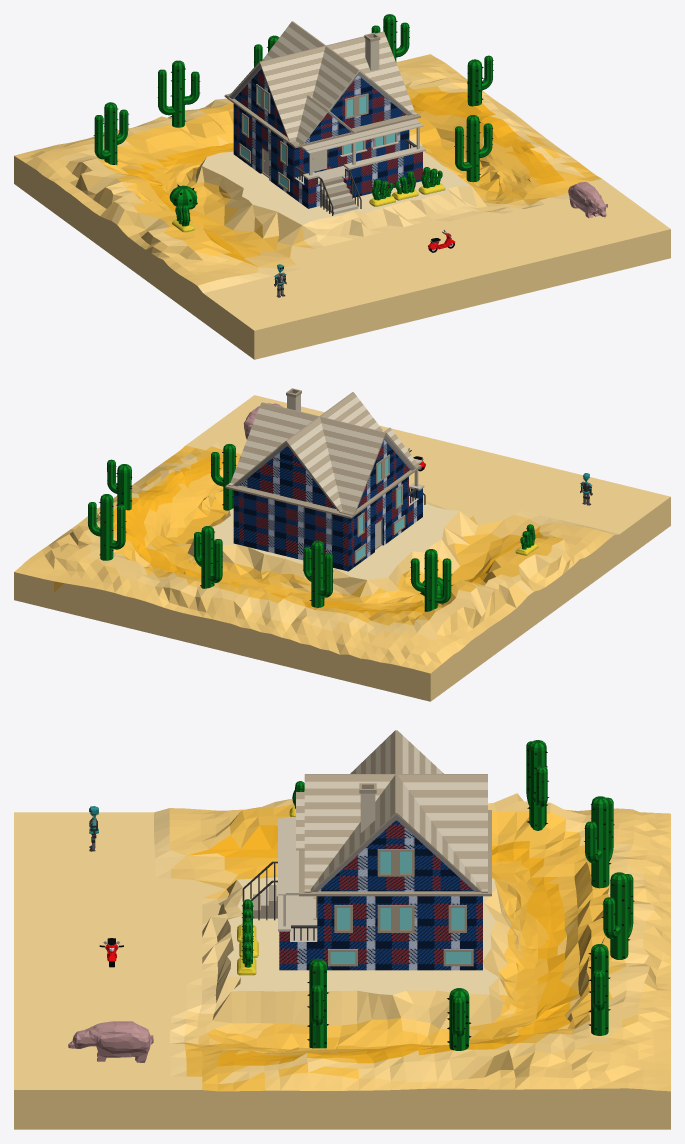
The picture shows the model from 3 angles, top to bottom: view 1: azimuth 30°, elevation 25°; view 2: azimuth 150°, elevation 25°; view 3: azimuth 270°, elevation 25°; orthographic projection. The views are drawn at different scales.
Parts seen in each view (by area): view 1: Cube.001, Cube.171, Cylinder.037, Cylinder.044, Cylinder.045, Cylinder.038, ANIMAL_HIPOPOTAMO, Cylinder.042, Cylinder.039, Cylinder.041, Sphere.023, Cylinder.040; view 2: Cube.001, Cube.171, Cylinder.042, Cylinder.045, Cylinder.044, Cylinder.043, Cylinder.037, Cylinder.038; view 3: Cube.001, Cube.171, ANIMAL_HIPOPOTAMO, Cylinder.043, Cylinder.044, Cylinder.045, Cylinder.042, Cylinder.037, Cylinder.038, Cylinder.041.
Boxes of the visible parts, x1,y1,x2,y2 form: Cube.001: (14,54,670,359); Cube.171: (224,21,425,215); Cylinder.037: (454,115,493,182); Cylinder.044: (157,60,200,127); Cylinder.045: (93,102,129,164); Cylinder.038: (467,55,493,106); ANIMAL_HIPOPOTAMO: (568,182,607,218); Cylinder.042: (371,14,409,62); Cylinder.039: (369,179,395,206); Cylinder.041: (418,167,445,194); Sphere.023: (169,184,197,209); Cylinder.040: (392,171,418,200); Cube.001: (14,395,670,701); Cube.171: (225,388,425,571); Cylinder.042: (88,494,126,560); Cylinder.045: (410,549,452,611); Cylinder.044: (303,540,333,607); Cylinder.043: (193,526,222,588); Cylinder.037: (211,444,240,510); Cylinder.038: (107,459,131,510); Cube.001: (14,793,670,1129); Cube.171: (242,730,491,970); ANIMAL_HIPOPOTAMO: (68,1021,153,1062); Cylinder.043: (602,872,634,959); Cylinder.044: (584,796,614,888); Cylinder.045: (526,740,548,830); Cylinder.042: (588,944,610,1035); Cylinder.037: (307,958,328,1048); Cylinder.038: (447,988,471,1050); Cylinder.041: (237,932,256,975).
Size of the model in its own units: 4002 by 1630 by 4001.
30 materials, 3 textured.
